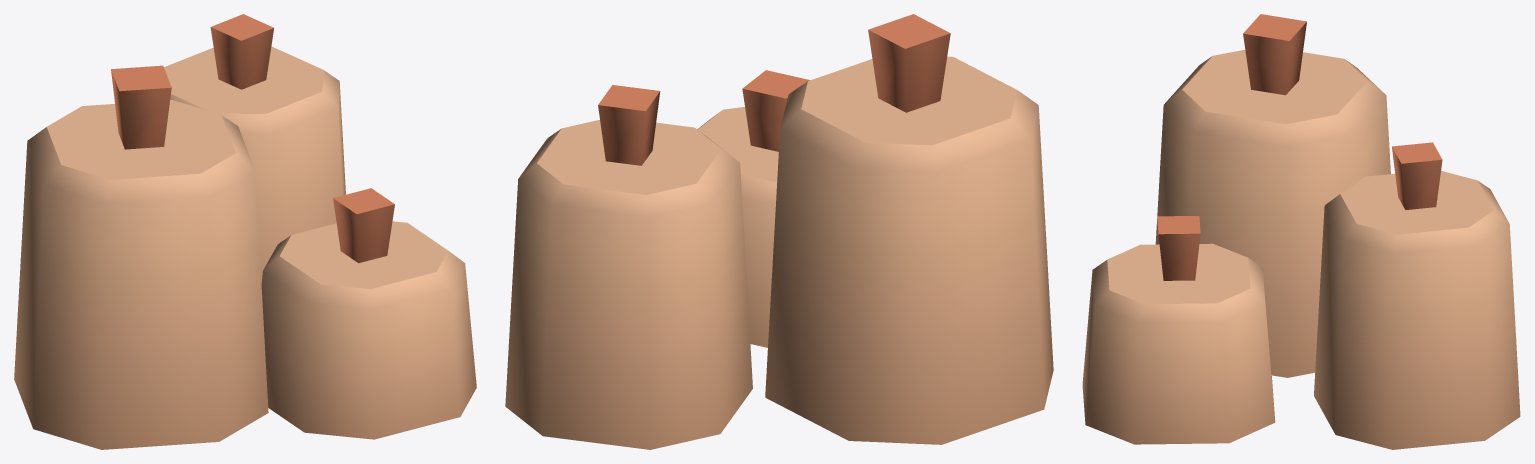
Rendered from candle-multiple.glb.
The picture shows the model from 3 angles, left to right: view 1: azimuth 30°, elevation 25°; view 2: azimuth 150°, elevation 25°; view 3: azimuth 270°, elevation 25°; orthographic projection. The views are drawn at different scales.
Parts seen in each view (by area): view 1: candle-multiple; view 2: candle-multiple; view 3: candle-multiple.
Boxes of the visible parts, bbox=[...] form: candle-multiple: bbox=[14, 14, 476, 449]; candle-multiple: bbox=[505, 14, 1053, 449]; candle-multiple: bbox=[1082, 14, 1520, 449].
Size of the model in its own units: 0.2552 by 0.2002 by 0.2667.
1 material, 1 textured.
